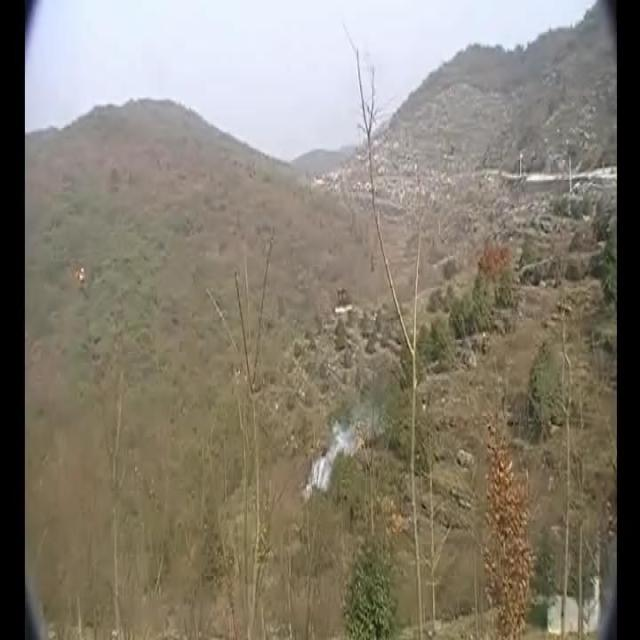smoke: (300, 401, 375, 503)
